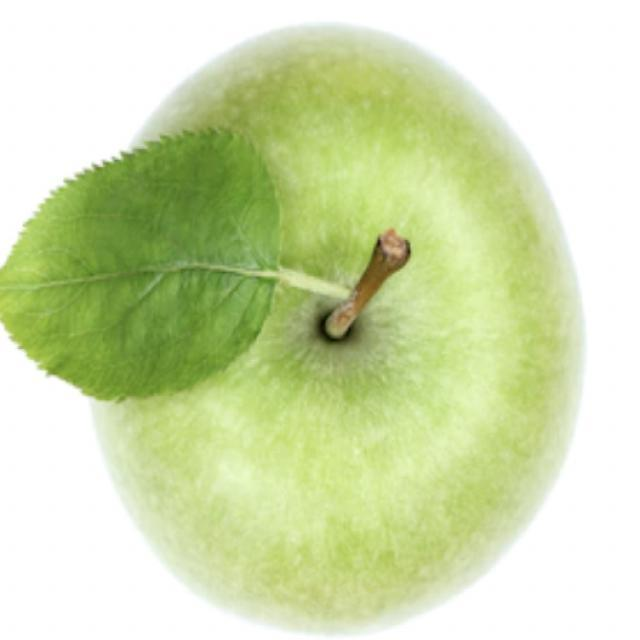Fresh Apple: (118, 48, 585, 615)
